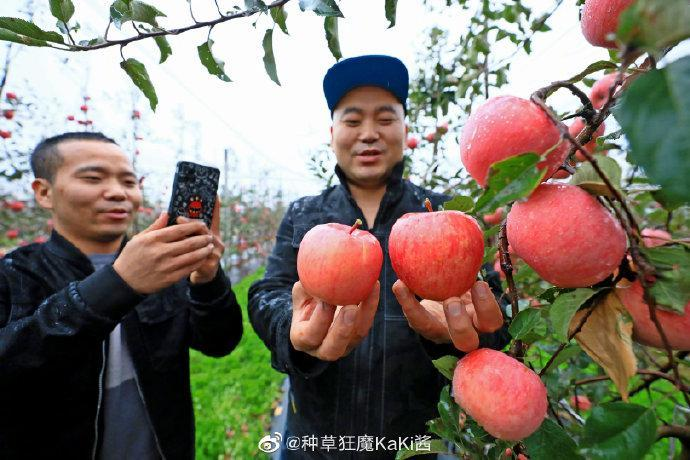apple: (503, 183, 624, 287), (459, 94, 571, 186), (451, 347, 547, 439), (388, 209, 484, 301), (297, 220, 382, 302), (587, 73, 617, 109)
